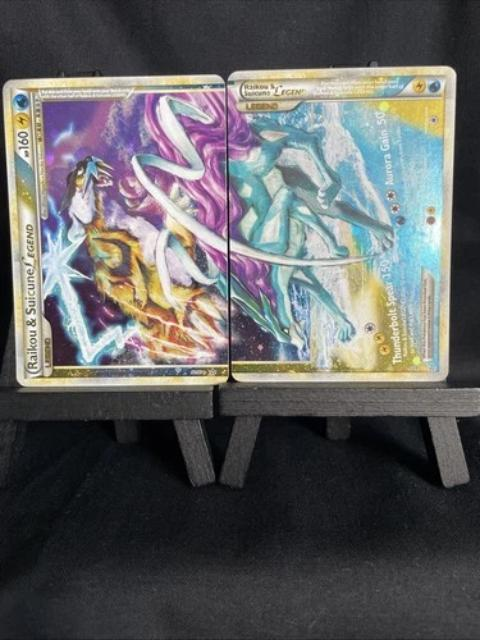Card: (226, 64, 460, 385), (0, 71, 231, 389)
Name: (16, 219, 44, 372), (237, 80, 311, 99)
